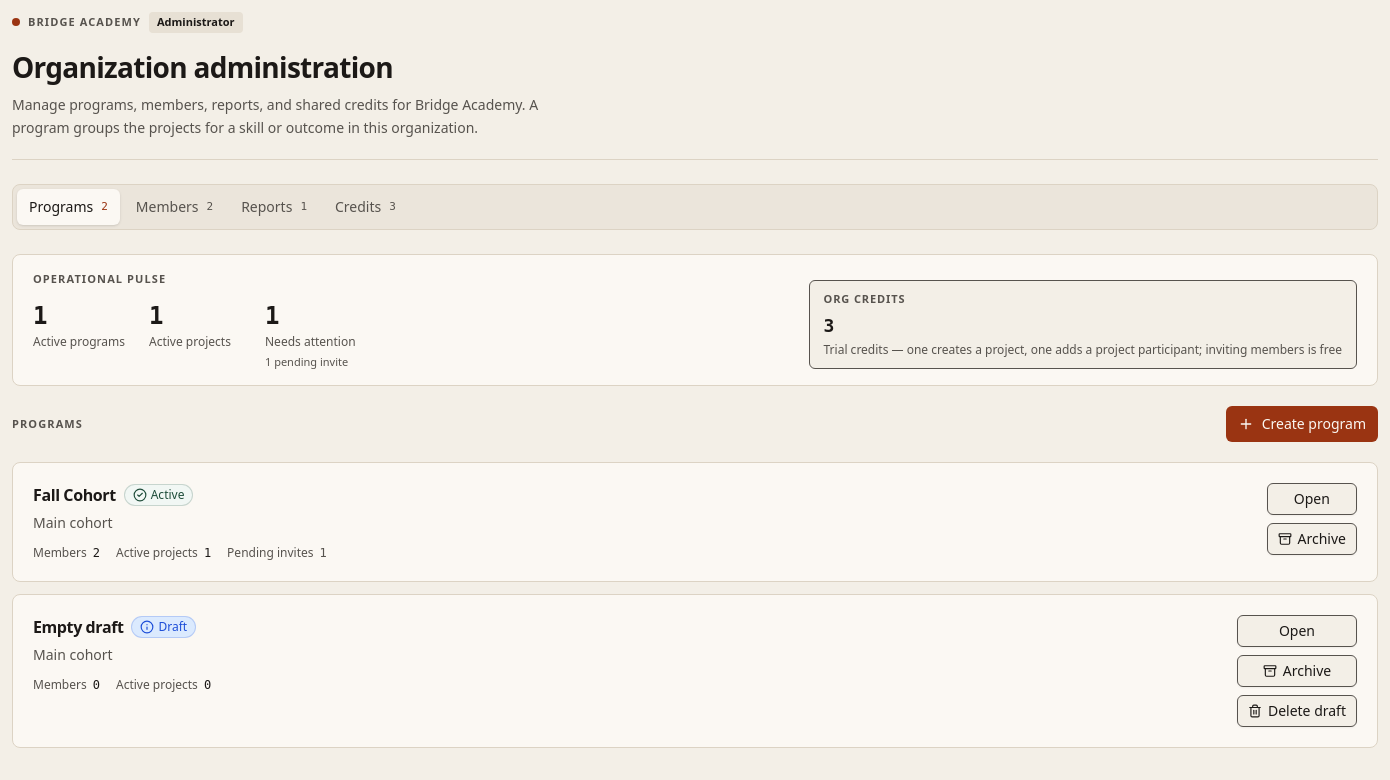
Scenario: OrgAdminPage › lists projects on the opened program
Click the button "Fall Cohort" at (74, 495), box [33,483,1254,561]
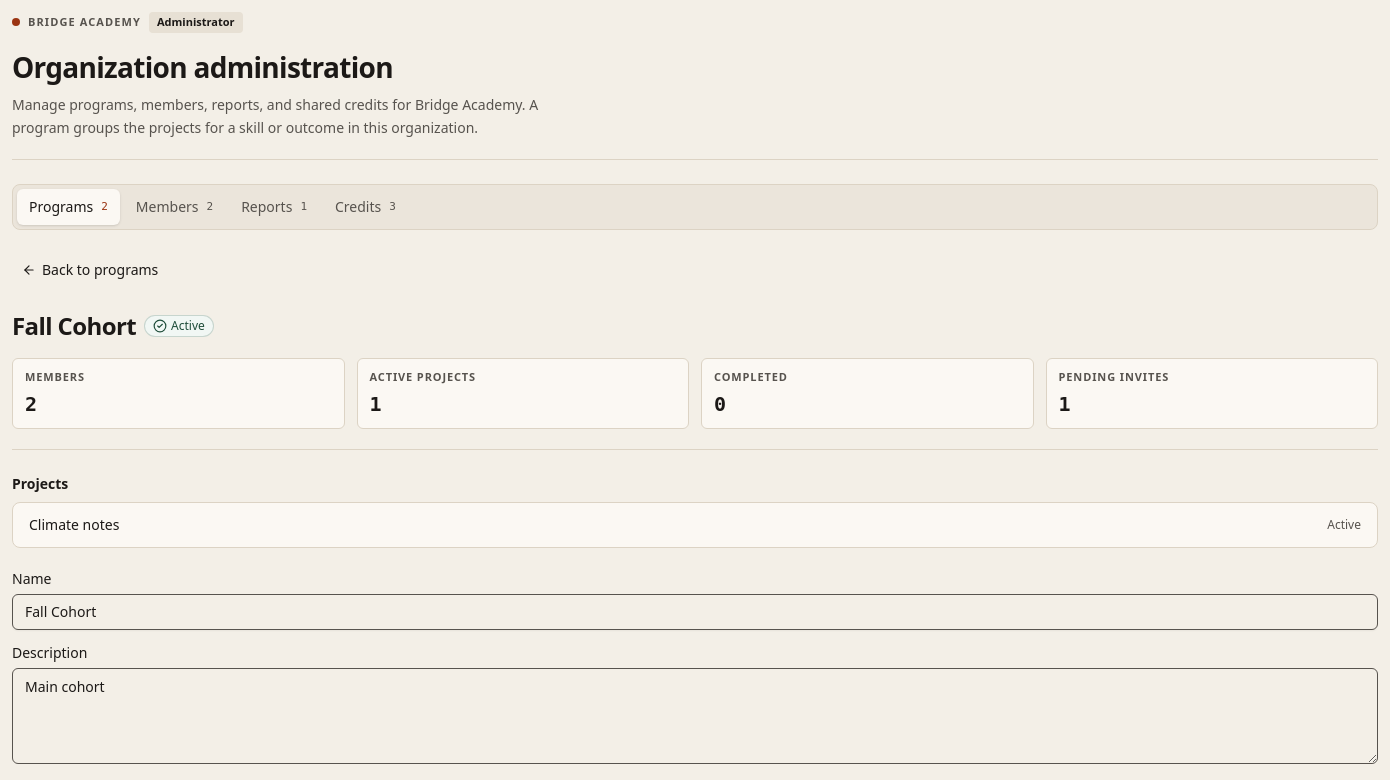
Click the button "Back to programs" at (90, 270), box [12,254,168,286]
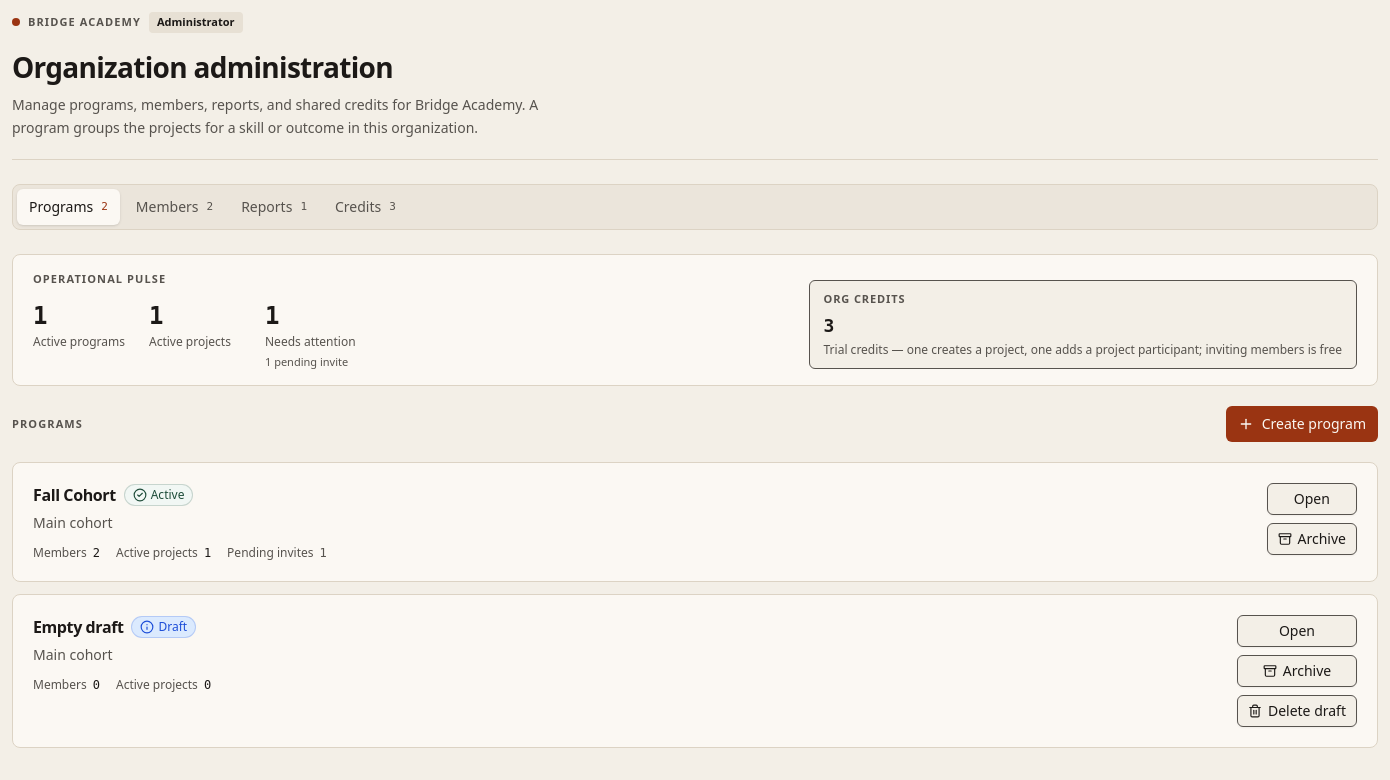
Click the button "Empty draft Draft Main cohort Members 0 Active projects 0" at (78, 627), box [33,615,1225,693]
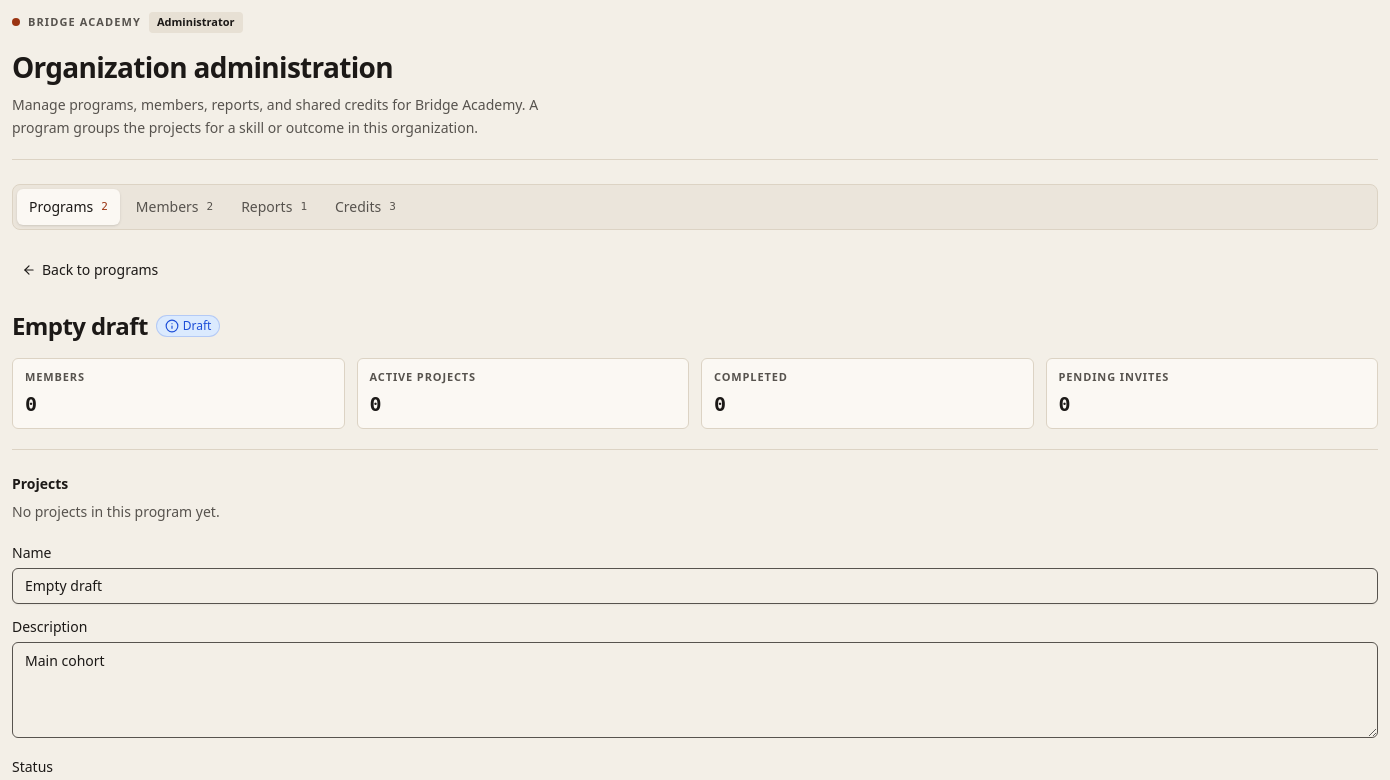
Check: the text "No projects in this program yet." is shown, box [12,502,220,521]
